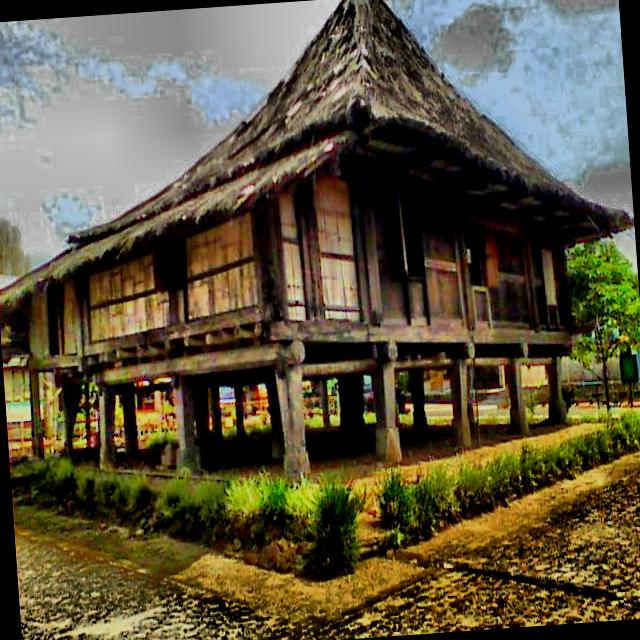column: (275, 368, 309, 474), (371, 362, 401, 460), (174, 377, 202, 474), (449, 359, 471, 446), (117, 383, 139, 459), (98, 383, 117, 465), (543, 357, 566, 424), (508, 359, 527, 434), (338, 374, 365, 426), (408, 368, 426, 425), (234, 385, 244, 433), (320, 379, 329, 427)
roof: (0, 0, 634, 364)
wall: (29, 152, 569, 366)
